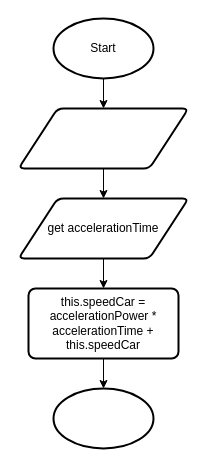
This 206x466 diagram has some shape labels left out. The shapes that lost their labels are listed below. From the top down, each one's centre as x and y in pixels, then its label:
At pixel 103 138: "get accelerationPower".
At pixel 103 418: "Stop".
